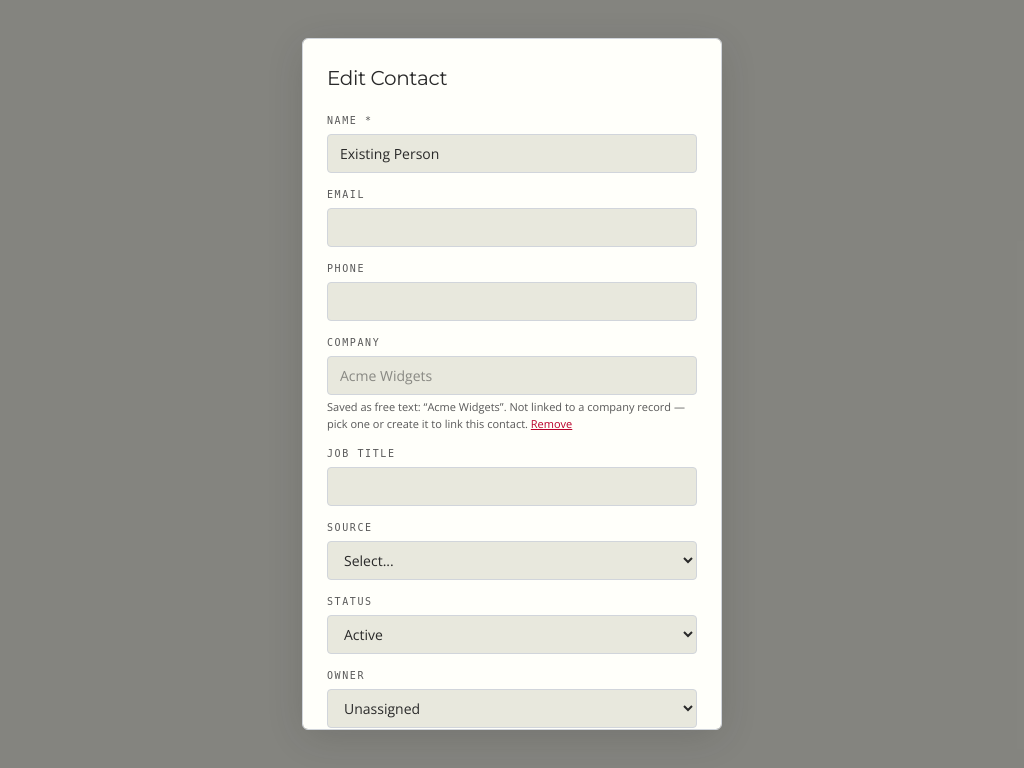
Test: ContactForm — the legacy free-text column › stops advertising that text once the user speaks for the field
Click the dropdown with id "contact-company" at (512, 376), box [327,356,697,395]
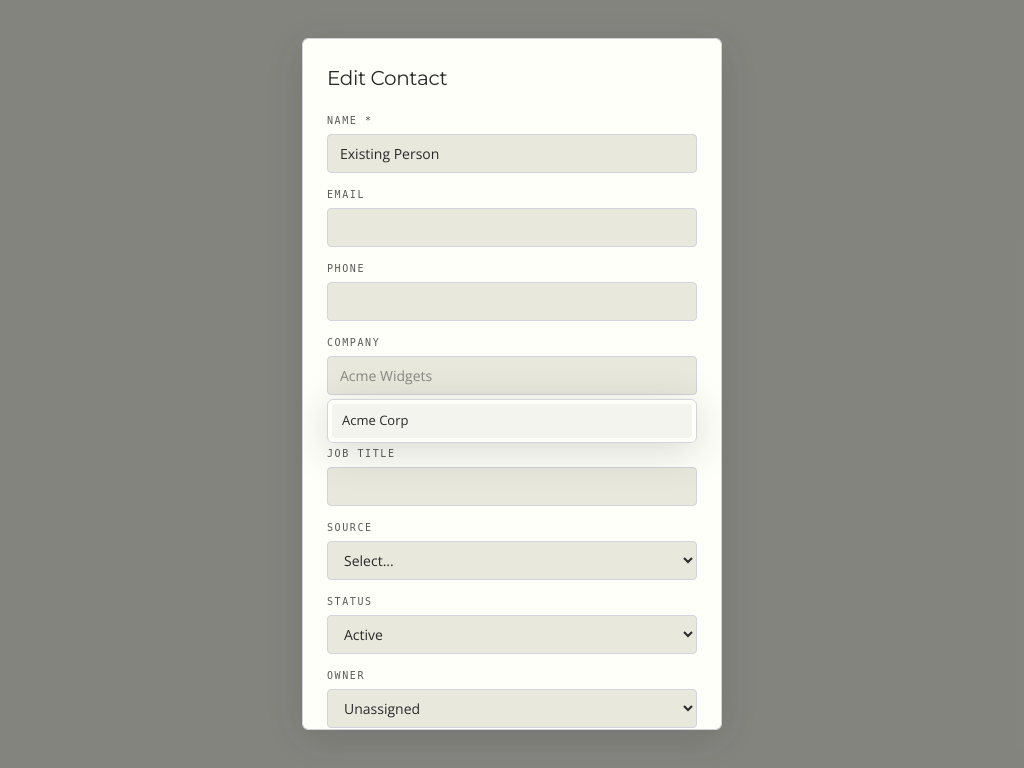
Click the option "Acme Corp" at (375, 420), box [332,404,692,438]
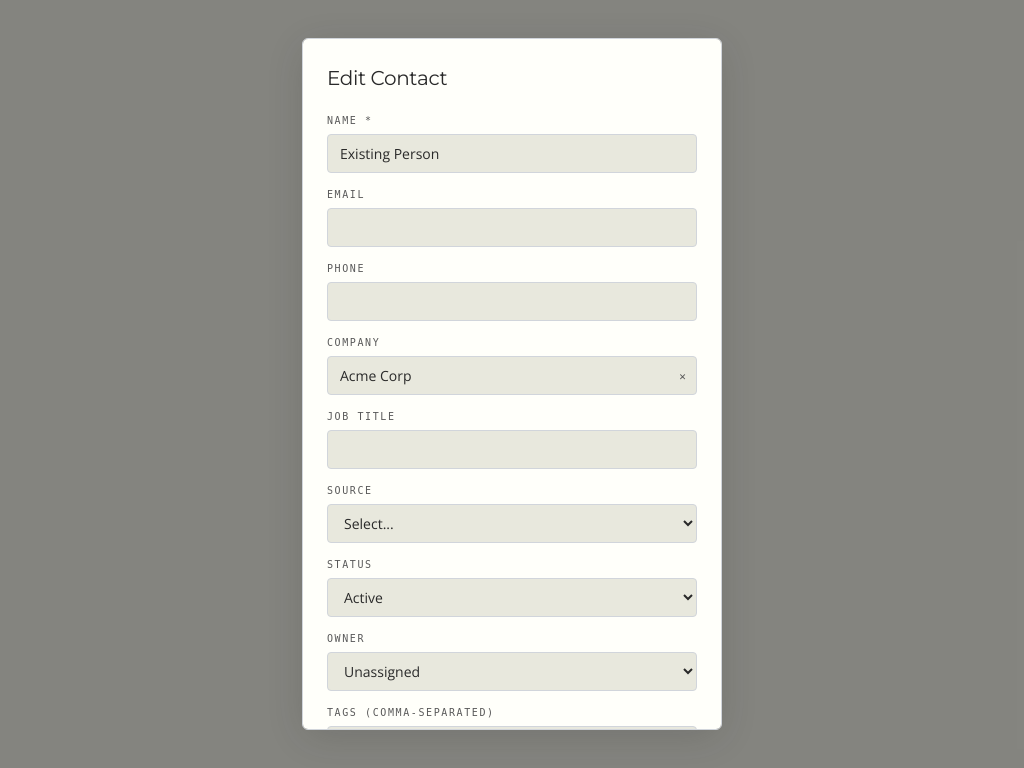
Now the text "Not linked to a company record" is gone
